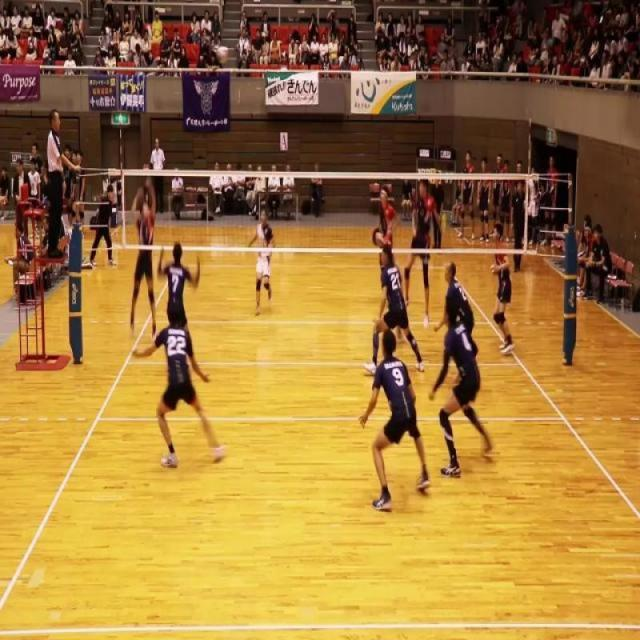volleyball: (216, 45, 228, 64)
